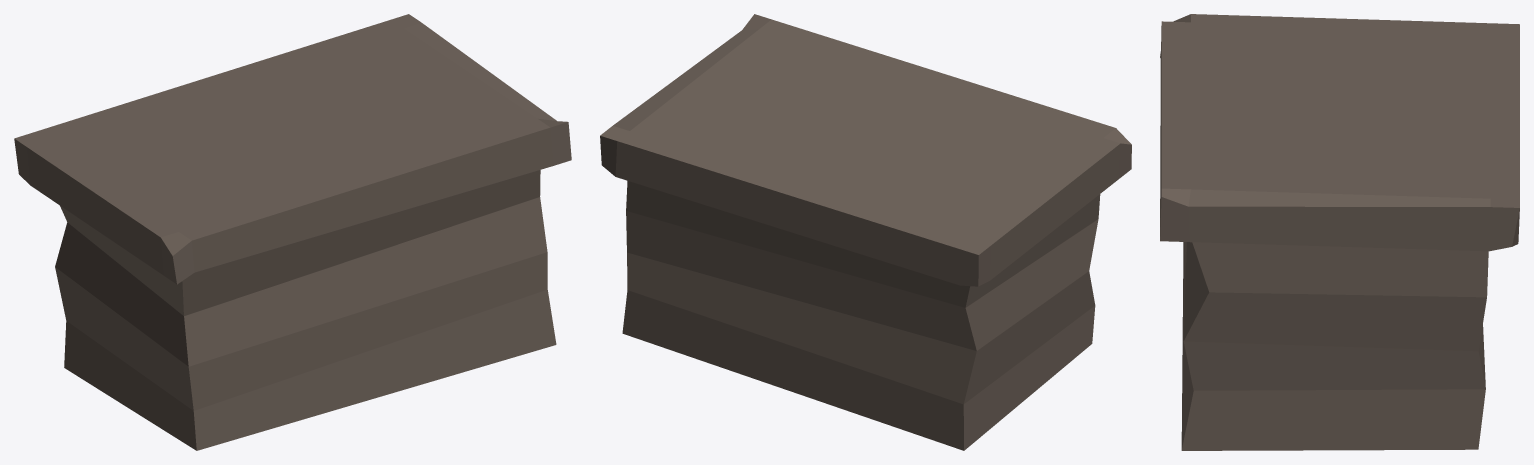
The picture shows the model from 3 angles, left to right: view 1: azimuth 30°, elevation 25°; view 2: azimuth 150°, elevation 25°; view 3: azimuth 270°, elevation 25°; orthographic projection. The views are drawn at different scales.
Parts seen in each view (by area): view 1: Box; view 2: Box; view 3: Box.
Boxes of the visible parts, left/top/right/bottom form: Box: left=14, top=14, right=571, bottom=450; Box: left=600, top=14, right=1131, bottom=450; Box: left=1160, top=14, right=1519, bottom=450.
Size of the model in its own units: 106 by 66.94 by 74.44.
